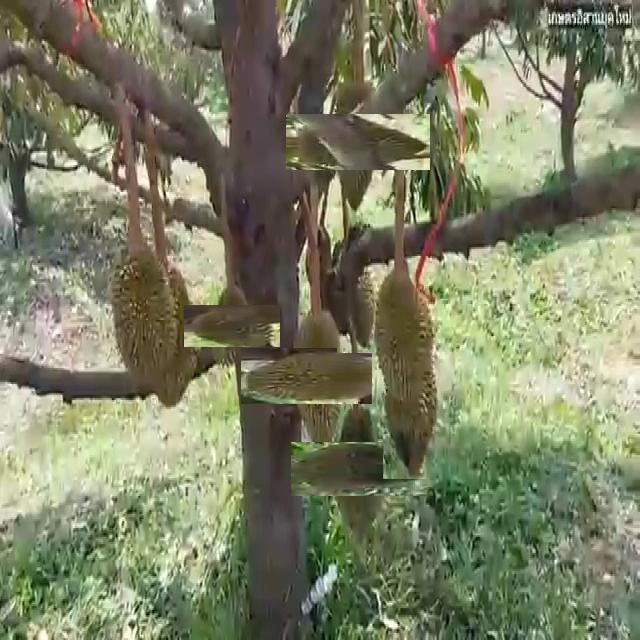durian: (109, 233, 181, 398), (265, 324, 369, 429), (372, 257, 440, 414), (134, 257, 201, 411), (308, 92, 409, 192), (312, 422, 406, 517), (383, 334, 439, 479), (198, 291, 267, 361), (337, 260, 378, 353)
